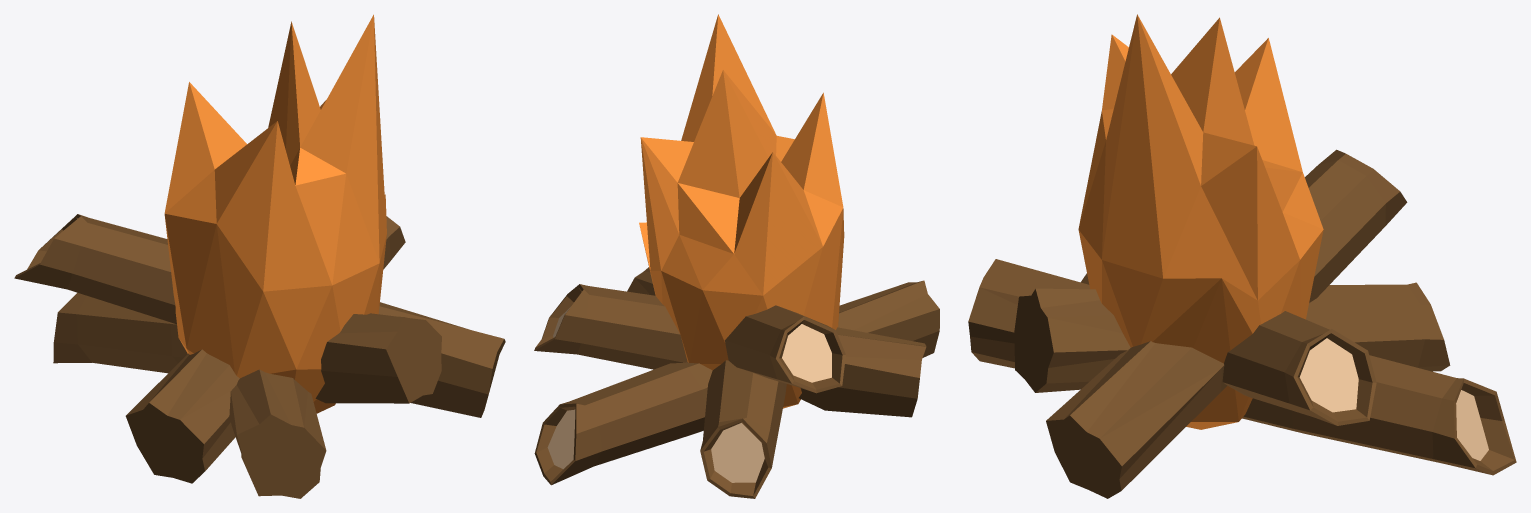
The model's file is CampFire_md.fbx.
3 renders of one model, left to right at view 1: azimuth 30°, elevation 25°; view 2: azimuth 150°, elevation 25°; view 3: azimuth 270°, elevation 25°, orthographic. The views are drawn at different scales.
Parts seen in each view (by area): view 1: Icosphere.001, Cylinder.082, Cylinder.081, Cylinder.079, Cylinder.080; view 2: Icosphere.001, Cylinder.080, Cylinder.079, Cylinder.082, Cylinder.081; view 3: Icosphere.001, Cylinder.081, Cylinder.080, Cylinder.082, Cylinder.079.
Boxes of the visible parts, bbox=[...] form: Icosphere.001: bbox=[164, 14, 386, 413]; Cylinder.082: bbox=[53, 293, 441, 403]; Cylinder.081: bbox=[14, 214, 505, 417]; Cylinder.079: bbox=[125, 216, 405, 483]; Cylinder.080: bbox=[229, 369, 326, 498]; Icosphere.001: bbox=[639, 14, 844, 408]; Cylinder.080: bbox=[534, 280, 939, 485]; Cylinder.079: bbox=[534, 284, 926, 417]; Cylinder.082: bbox=[700, 360, 786, 498]; Cylinder.081: bbox=[627, 267, 845, 393]; Icosphere.001: bbox=[1078, 14, 1323, 429]; Cylinder.081: bbox=[1046, 149, 1407, 498]; Cylinder.080: bbox=[968, 259, 1516, 475]; Cylinder.082: bbox=[1014, 282, 1450, 392]; Cylinder.079: bbox=[1081, 273, 1376, 425].
Bounding box in the file's own units: 400 × 436 × 479.
